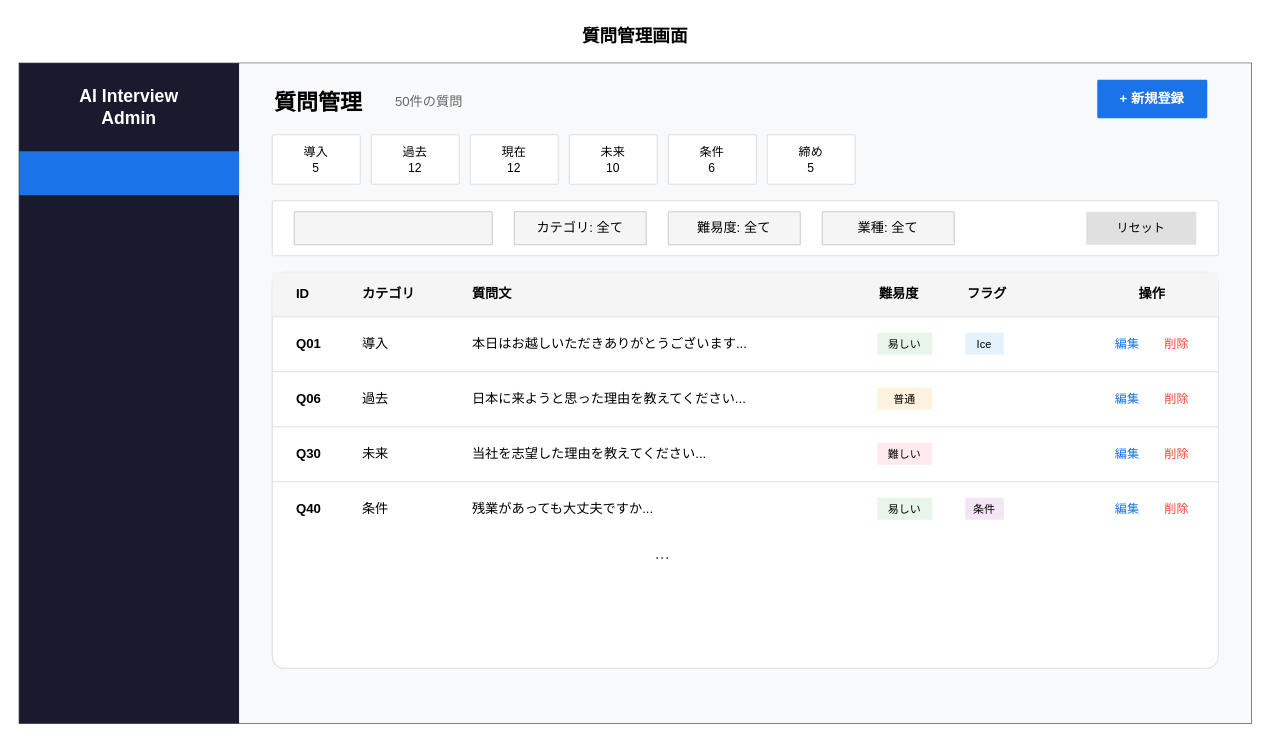
Image size: 1271x743. Some labels were removed from this diagram. The centre of each missing label's shape, as x and y in pixels:
? 質問管理: point 129,173
キーワード検索...: point 392,228
